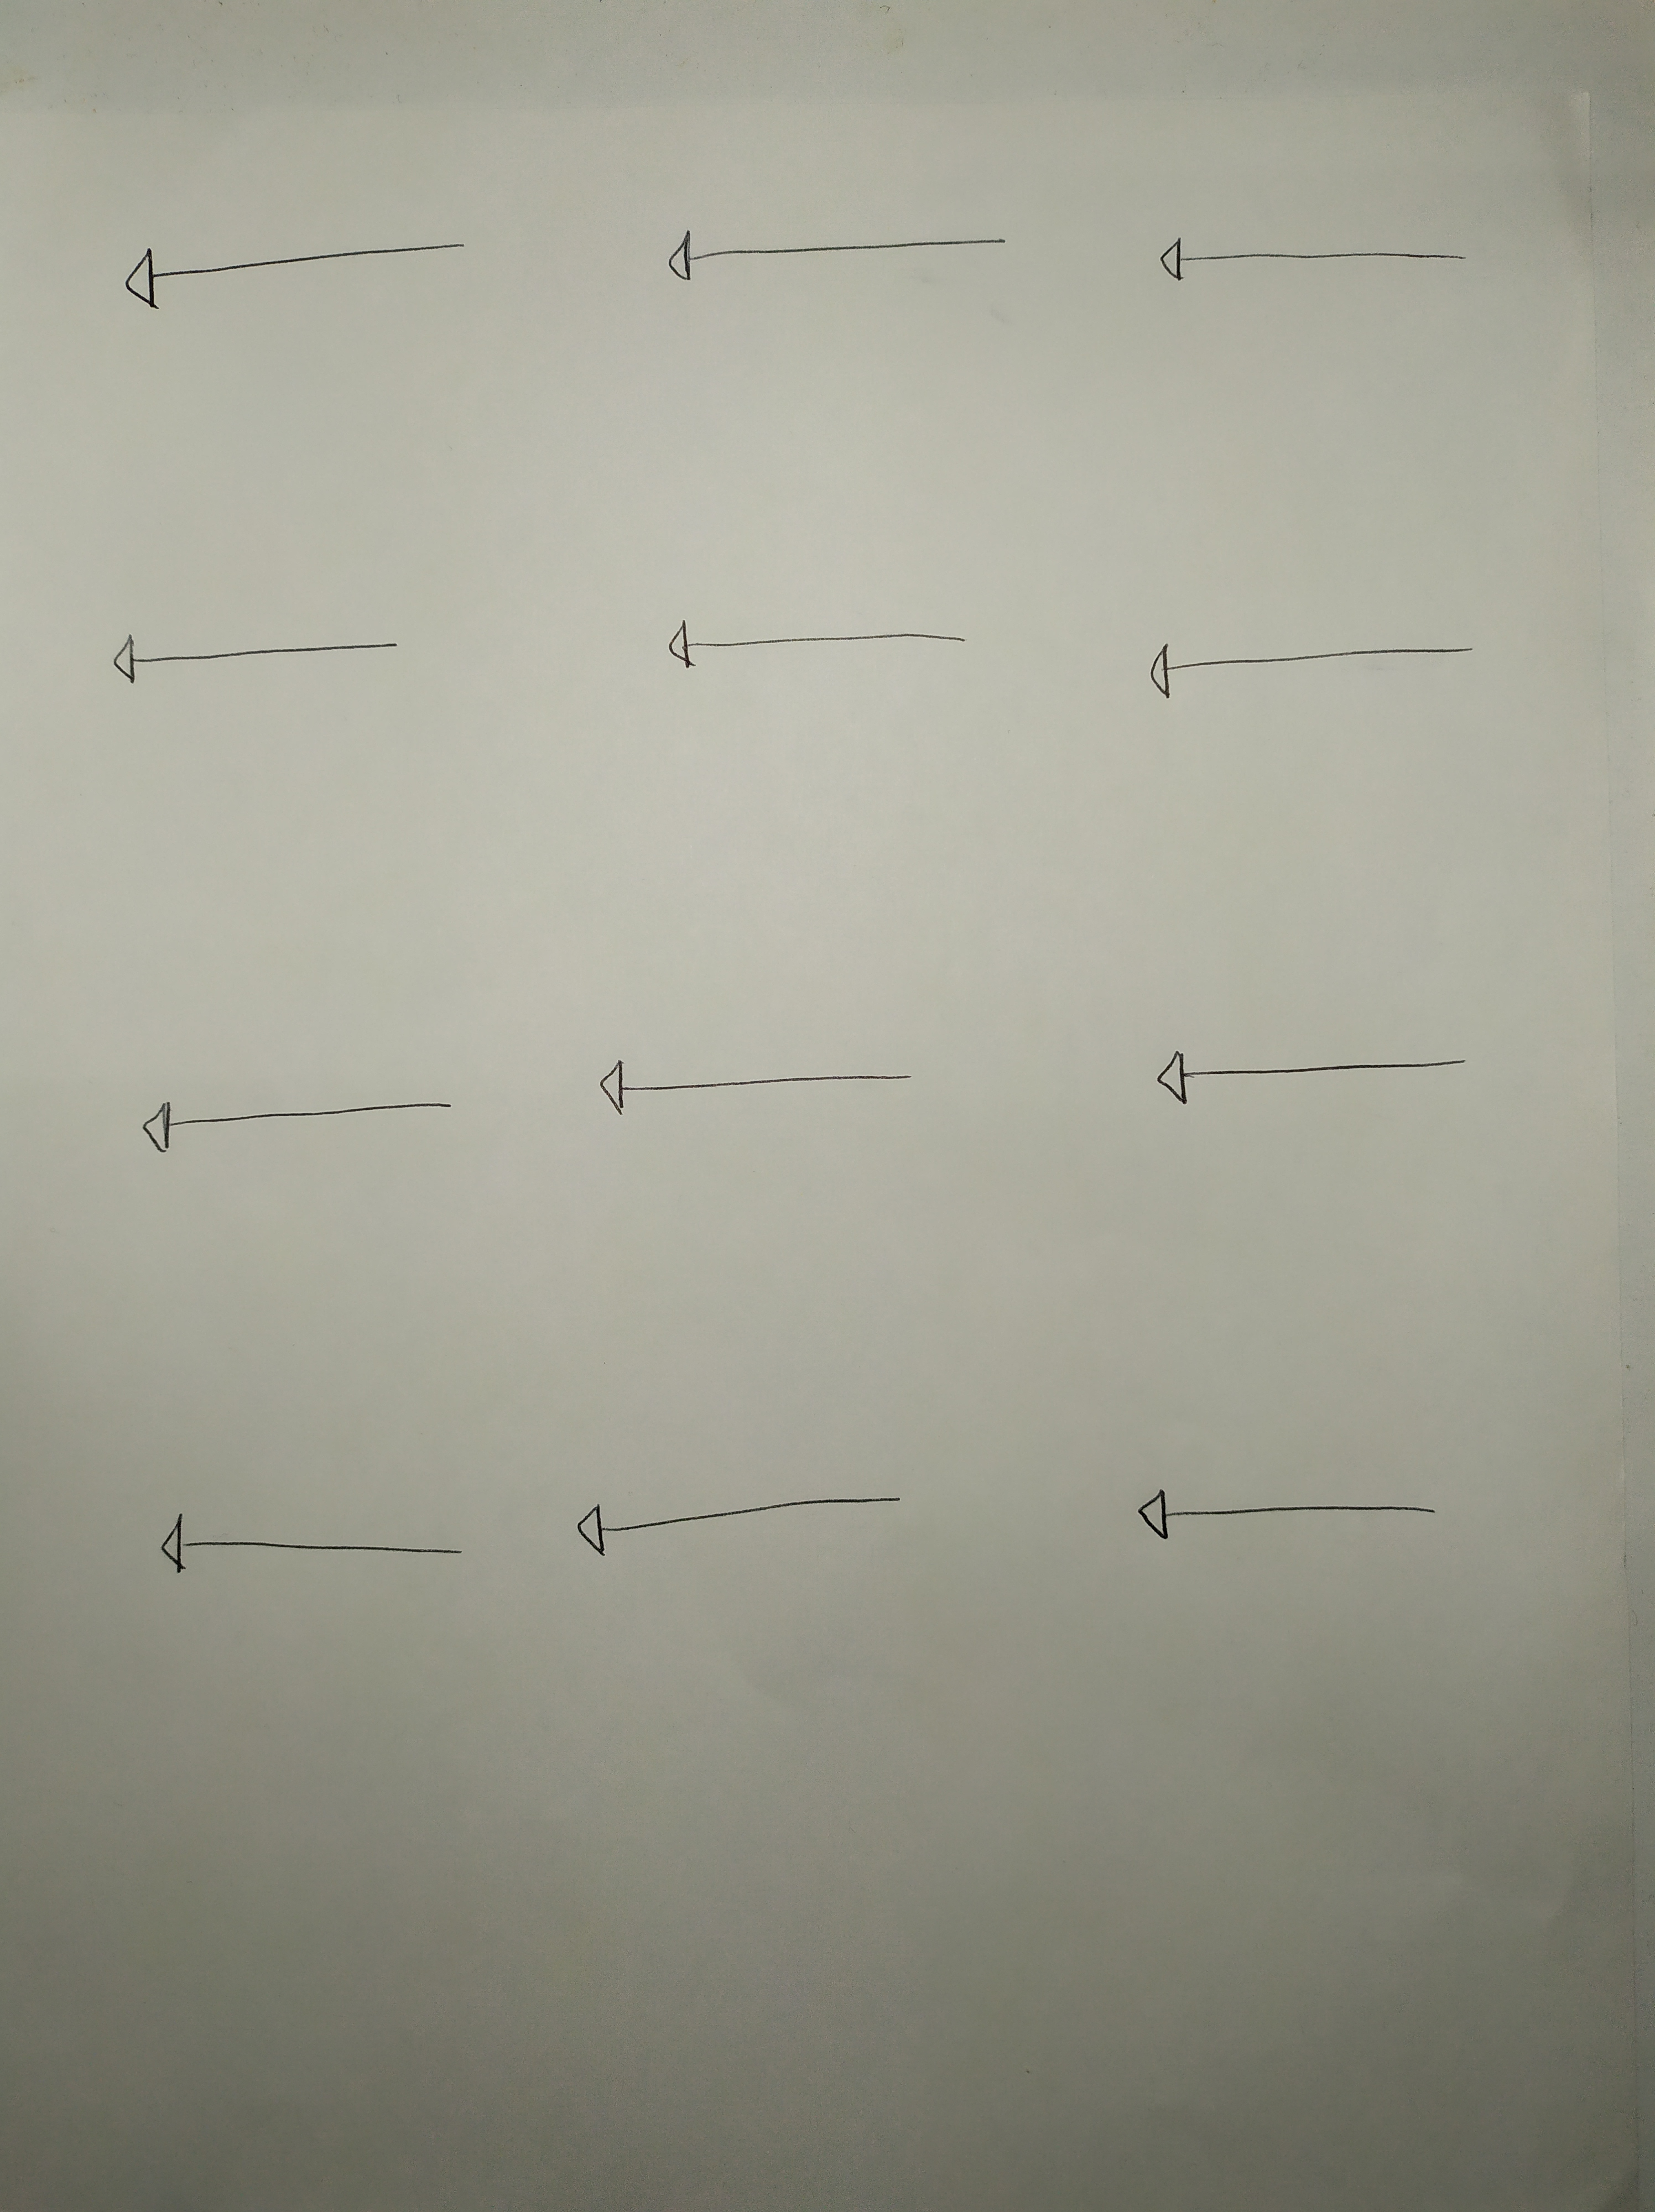arrow_line_left: (626, 198, 1055, 327), (96, 212, 502, 335), (1106, 1022, 1518, 1131), (1107, 1468, 1478, 1574), (1120, 619, 1502, 714), (568, 1043, 960, 1135), (134, 1503, 492, 1602), (111, 1079, 494, 1164), (541, 1486, 935, 1567), (1140, 222, 1492, 311), (621, 608, 1005, 688), (89, 619, 454, 697)
